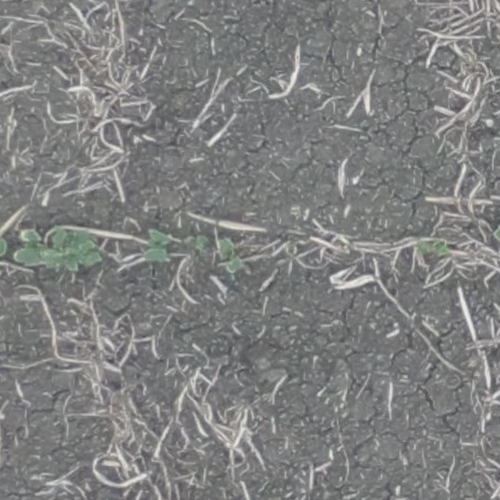clumped: (43, 225, 103, 275), (0, 223, 6, 267), (496, 222, 499, 273)
isolated: (12, 225, 42, 266), (144, 230, 172, 264), (217, 237, 242, 273)
